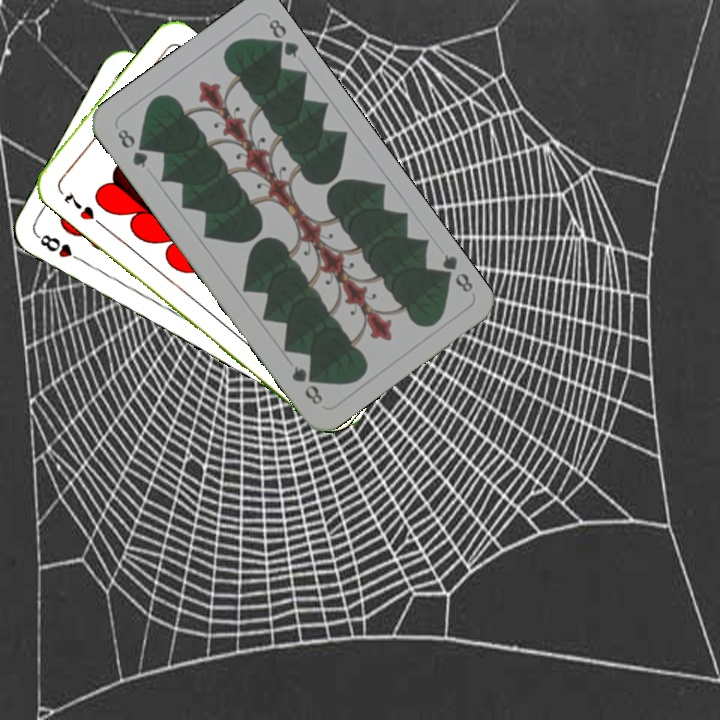G8: (433, 250, 476, 296), (113, 124, 151, 171)
H7: (60, 189, 97, 223)
H8: (32, 230, 87, 265)
